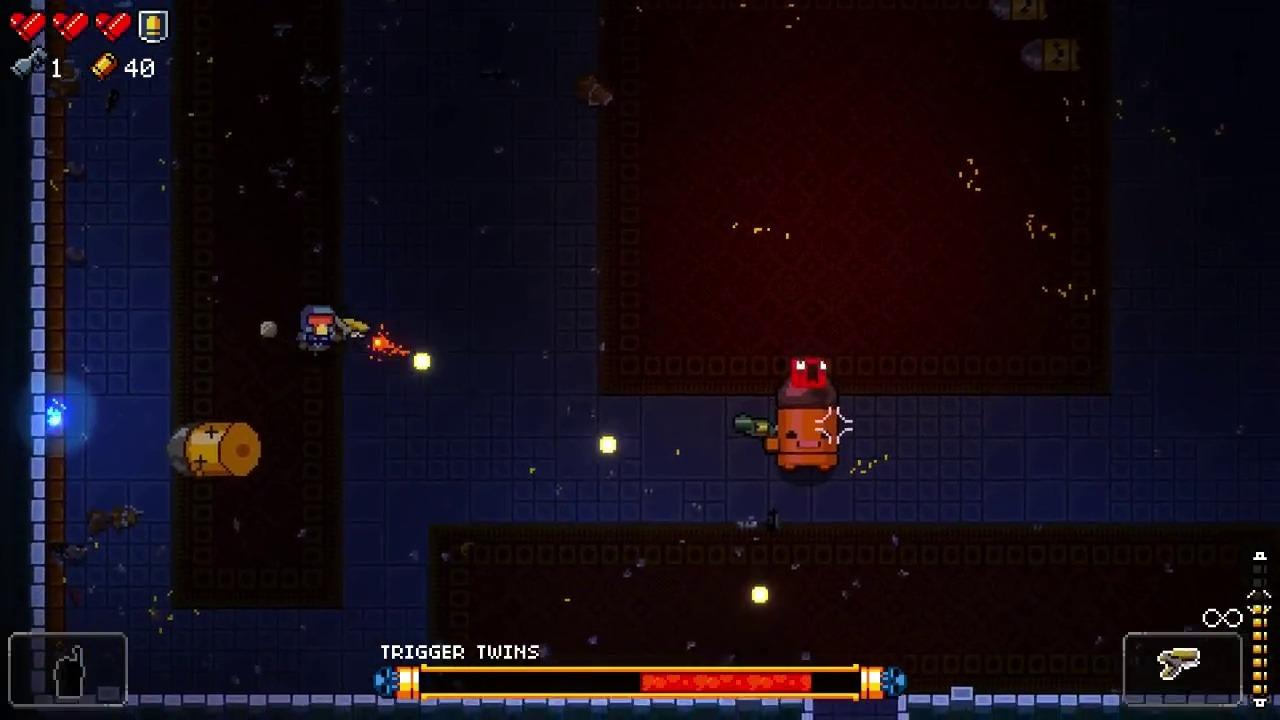boss_smiley: (777, 376, 837, 471)
bullet_kin: (1022, 37, 1082, 71), (990, 0, 1048, 24)
dead_boss_shades: (165, 424, 263, 477)
player: (298, 304, 337, 357)
